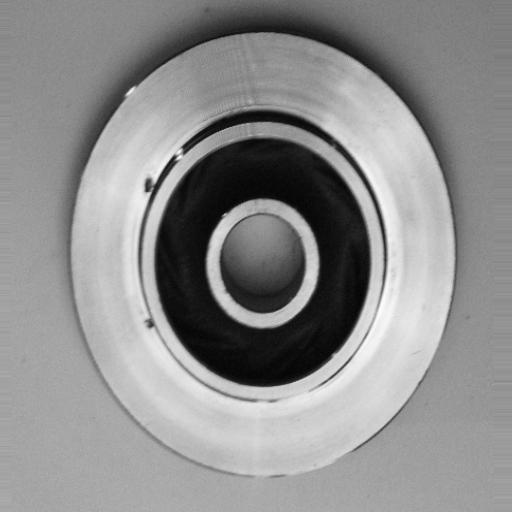crack: (137, 308, 168, 342), (135, 169, 168, 200)
scratch: (238, 384, 327, 414)
unpolished_casting: (68, 25, 460, 479)
